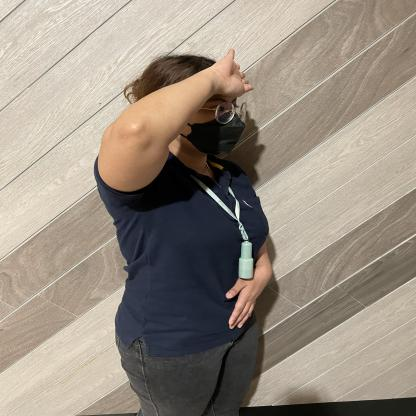Sick: (165, 42, 271, 109)
